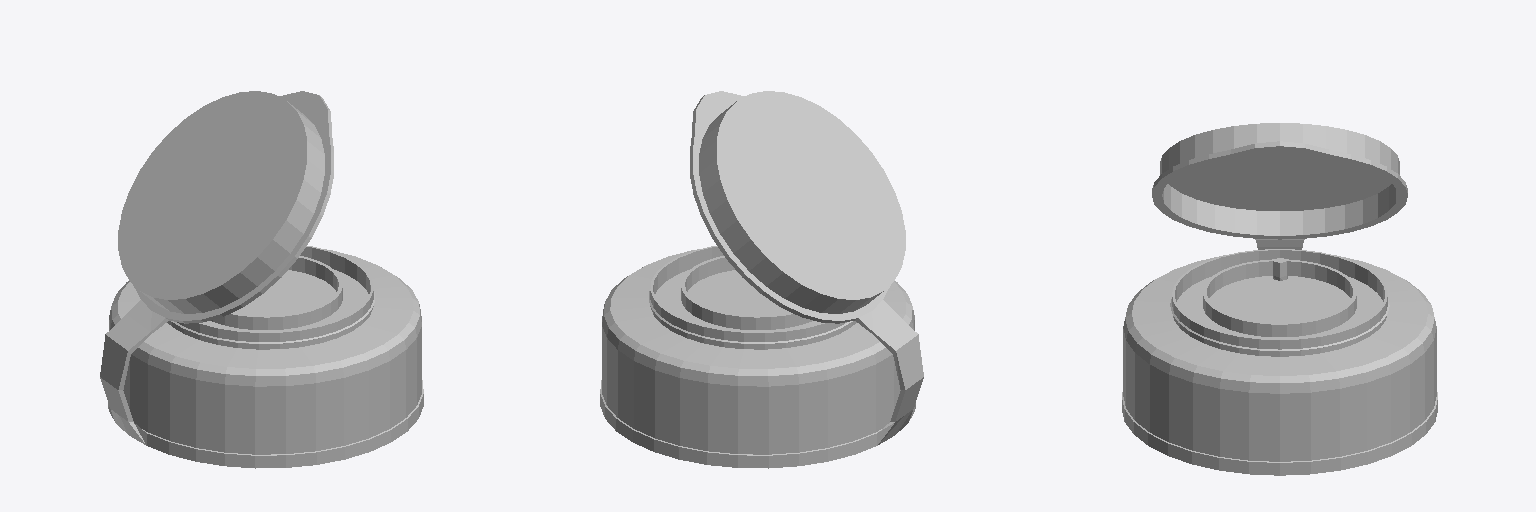
The model's file is mdl_tapa_noname_01.obj.
3 views of the same model, side by side, from view 1: azimuth 30°, elevation 25°; view 2: azimuth 150°, elevation 25°; view 3: azimuth 270°, elevation 25° (orthographic).
Visible parts, largest first — view 1: mdl_tapa_nocarbonatada_33mm008; view 2: mdl_tapa_nocarbonatada_33mm008; view 3: mdl_tapa_nocarbonatada_33mm008.
Boxes of the visible parts, <box> form: mdl_tapa_nocarbonatada_33mm008: <box>100,91,423,468</box>; mdl_tapa_nocarbonatada_33mm008: <box>600,91,923,468</box>; mdl_tapa_nocarbonatada_33mm008: <box>1122,123,1437,475</box>.
Size of the model in its own units: 5.96 by 5.74 by 5.57.